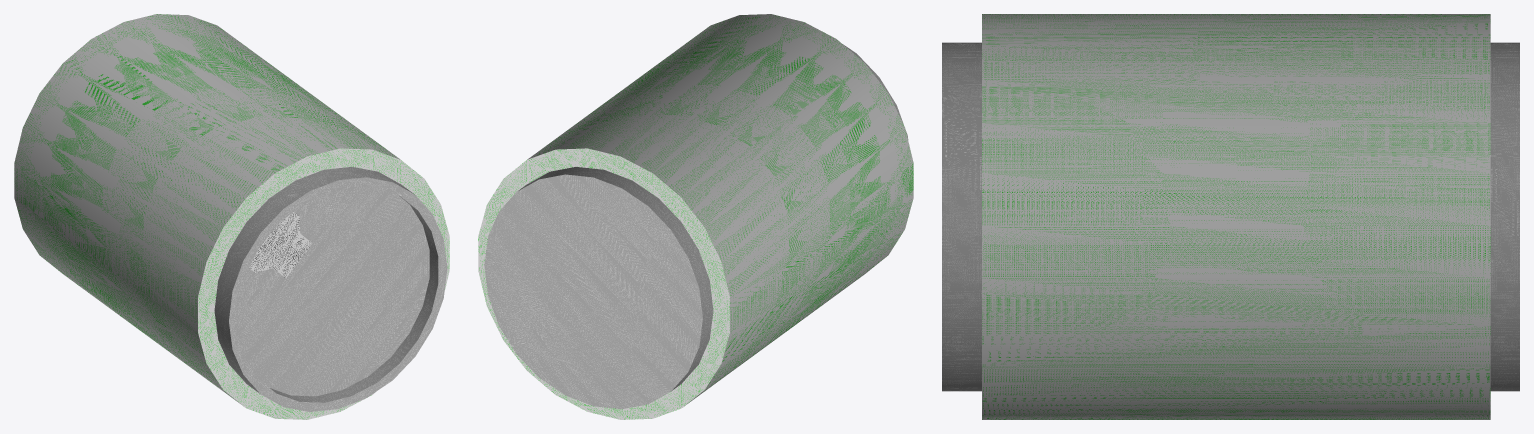
File: model_scale.obj
3 views of the same model, side by side, from view 1: azimuth 30°, elevation 25°; view 2: azimuth 150°, elevation 25°; view 3: azimuth 270°, elevation 25° (orthographic). The views are drawn at different scales.
Parts seen in each view (by area): view 1: mesh1_mesh1-geometry; view 2: mesh1_mesh1-geometry; view 3: mesh1_mesh1-geometry.
Part boxes in pixels (<box>): mesh1_mesh1-geometry: <box>14,14,449,419</box>; mesh1_mesh1-geometry: <box>478,14,913,419</box>; mesh1_mesh1-geometry: <box>942,14,1519,419</box>.
Size of the model in its own units: 0.0758 by 0.0758 by 0.1087.
